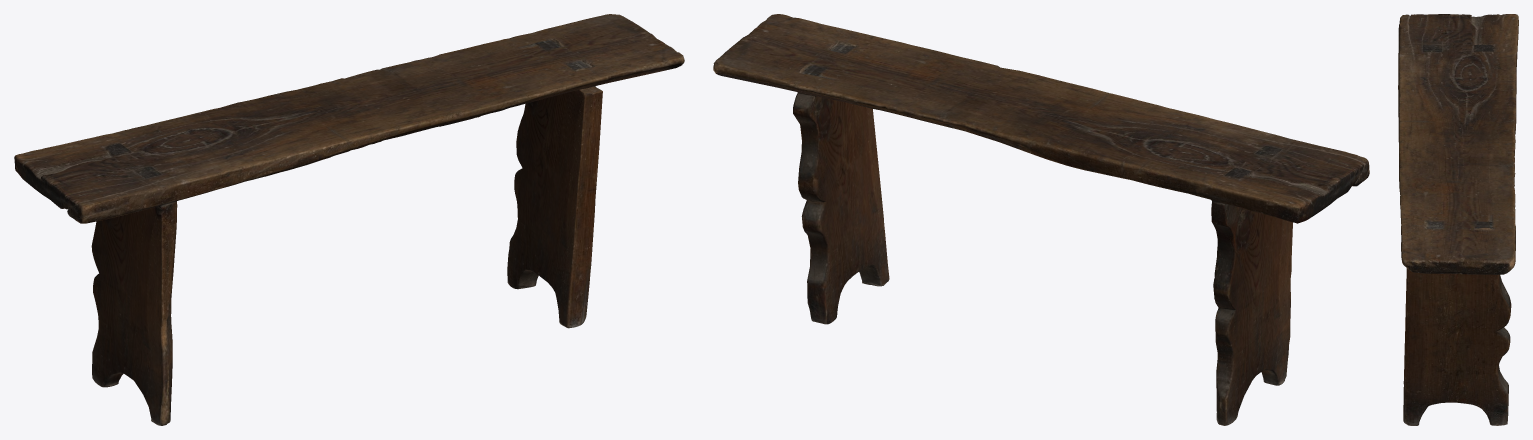
3 renders of one model, left to right at view 1: azimuth 30°, elevation 25°; view 2: azimuth 150°, elevation 25°; view 3: azimuth 270°, elevation 25°, orthographic. The views are drawn at different scales.
Visible parts, largest first — view 1: wjfjahl_LOD0_TIER1_000; view 2: wjfjahl_LOD0_TIER1_000; view 3: wjfjahl_LOD0_TIER1_000.
Boxes of the visible parts, <box> form: wjfjahl_LOD0_TIER1_000: <box>14,14,684,425</box>; wjfjahl_LOD0_TIER1_000: <box>713,14,1369,425</box>; wjfjahl_LOD0_TIER1_000: <box>1398,14,1518,425</box>.
Size of the model in its own units: 1.52 by 0.5882 by 0.3123.
1 material, 1 textured.
